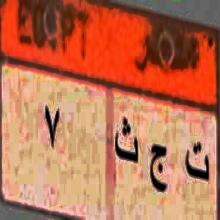7: (40, 92, 63, 152)
jeem: (148, 142, 169, 200)
taa: (184, 134, 212, 194)
thaa: (113, 109, 139, 174)
